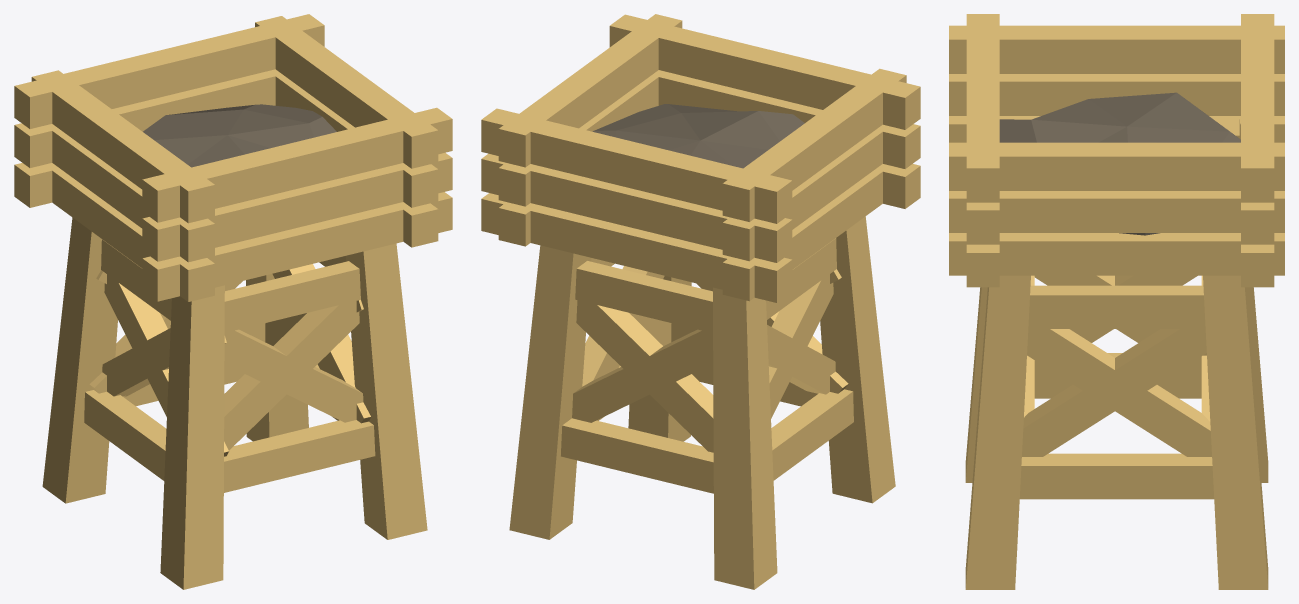
File: falcontower.FBX
3 renders of one model, left to right at view 1: azimuth 30°, elevation 25°; view 2: azimuth 150°, elevation 25°; view 3: azimuth 270°, elevation 25°, orthographic. The views are drawn at different scales.
Parts seen in each view (by area): view 1: Box003, Box009, Cylinder001; view 2: Box003, Box009, Cylinder001; view 3: Box009, Box003, Cylinder001.
Part boxes in pixels (x1=…): Box003: x1=42, y1=217, x2=427, y2=589; Box009: x1=14, y1=14, x2=452, y2=301; Cylinder001: x1=143, y1=104, x2=336, y2=167; Box003: x1=509, y1=216, x2=895, y2=589; Box009: x1=481, y1=14, x2=920, y2=302; Cylinder001: x1=592, y1=104, x2=804, y2=168; Box009: x1=949, y1=14, x2=1284, y2=287; Box003: x1=965, y1=119, x2=1268, y2=589; Cylinder001: x1=999, y1=92, x2=1240, y2=235.
Size of the model in its own units: 36.39 by 33.45 by 47.78.
